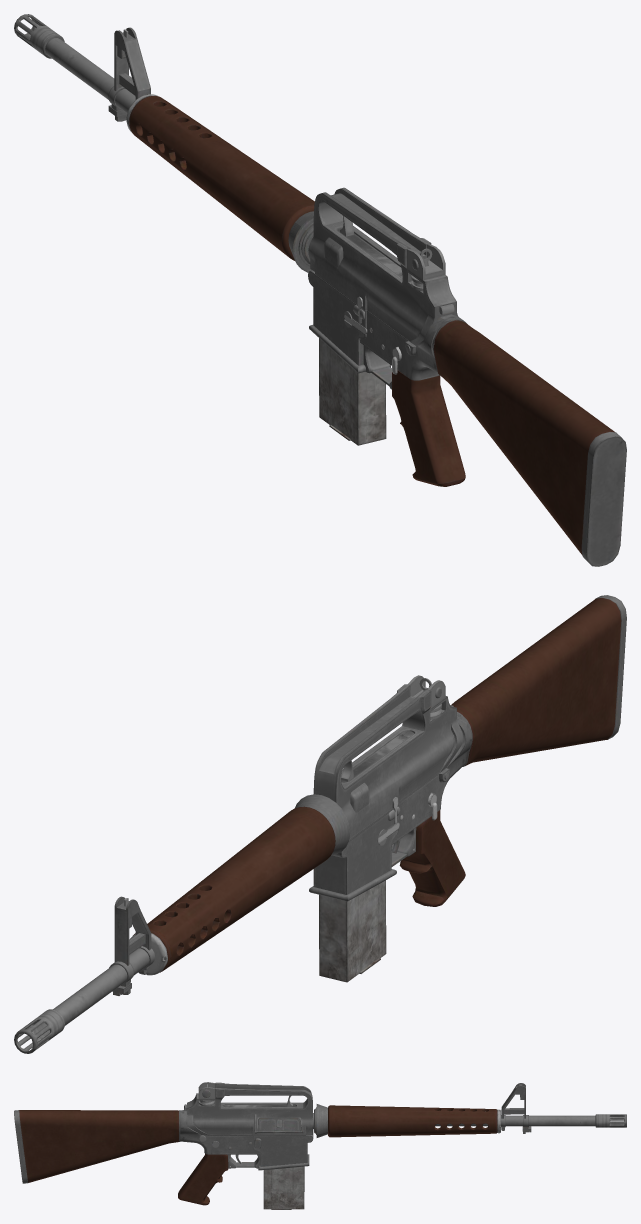
3 renders of one model, top to bottom at view 1: azimuth 30°, elevation 25°; view 2: azimuth 150°, elevation 25°; view 3: azimuth 270°, elevation 25°, orthographic. The views are drawn at different scales.
Bounding box in the file's own units: 0.0567 × 0.2188 × 1.
2 materials, 2 textured.
